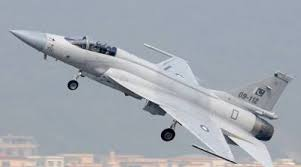fighter: (9, 27, 294, 166)
